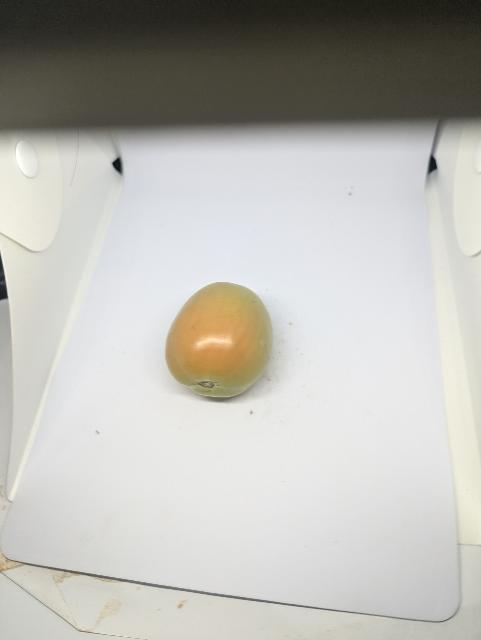breaker: (160, 279, 276, 403)
